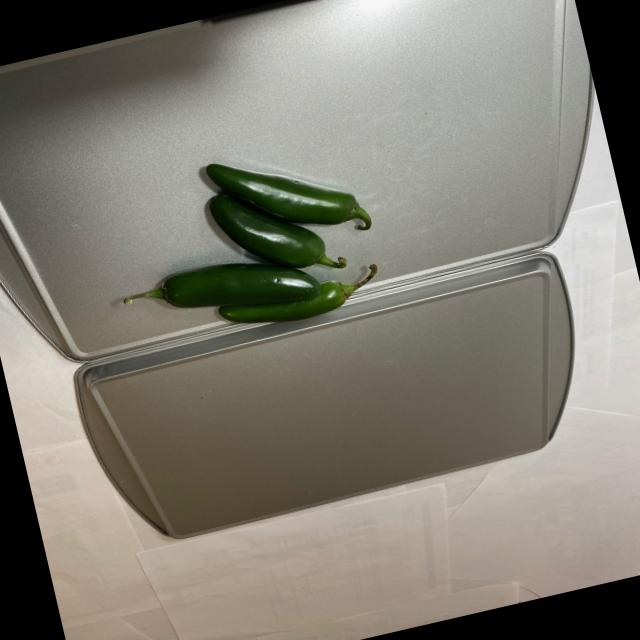chilli: (86, 124, 411, 362)
